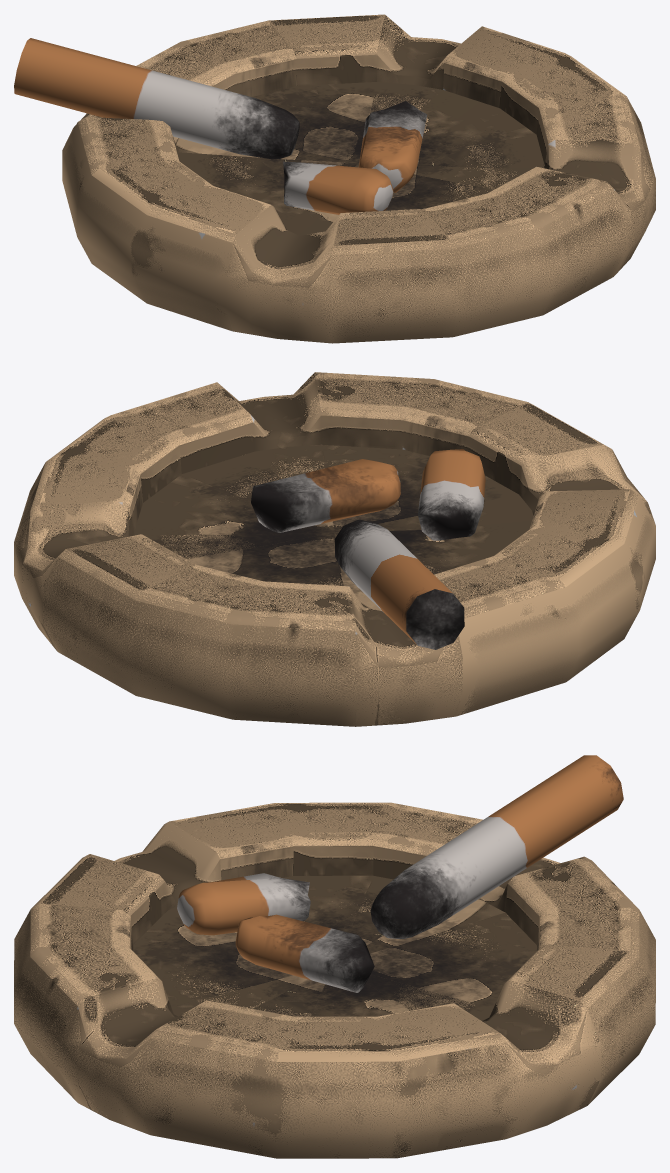
The model's file is AshtrayGrp.fbx.
3 renders of one model, top to bottom at view 1: azimuth 30°, elevation 25°; view 2: azimuth 150°, elevation 25°; view 3: azimuth 270°, elevation 25°, orthographic. The views are drawn at different scales.
Parts seen in each view (by area): view 1: ashtray, cigarette1, cigarette2, cigarette3; view 2: ashtray, cigarette1, cigarette3, cigarette2; view 3: ashtray, cigarette1, cigarette3, cigarette2.
Part boxes in pixels (x1,y1,x2,y2): ashtray: [62, 14, 655, 343]; cigarette1: [14, 38, 299, 159]; cigarette2: [283, 161, 393, 214]; cigarette3: [358, 101, 427, 192]; ashtray: [14, 372, 655, 726]; cigarette1: [334, 519, 464, 649]; cigarette3: [251, 459, 400, 532]; cigarette2: [418, 449, 485, 540]; ashtray: [14, 802, 655, 1158]; cigarette1: [370, 755, 623, 938]; cigarette3: [235, 914, 374, 992]; cigarette2: [177, 873, 310, 935].
Size of the model in its own units: 82.96 by 23.07 by 83.03.
Materials: 1 (1 with a texture image).
